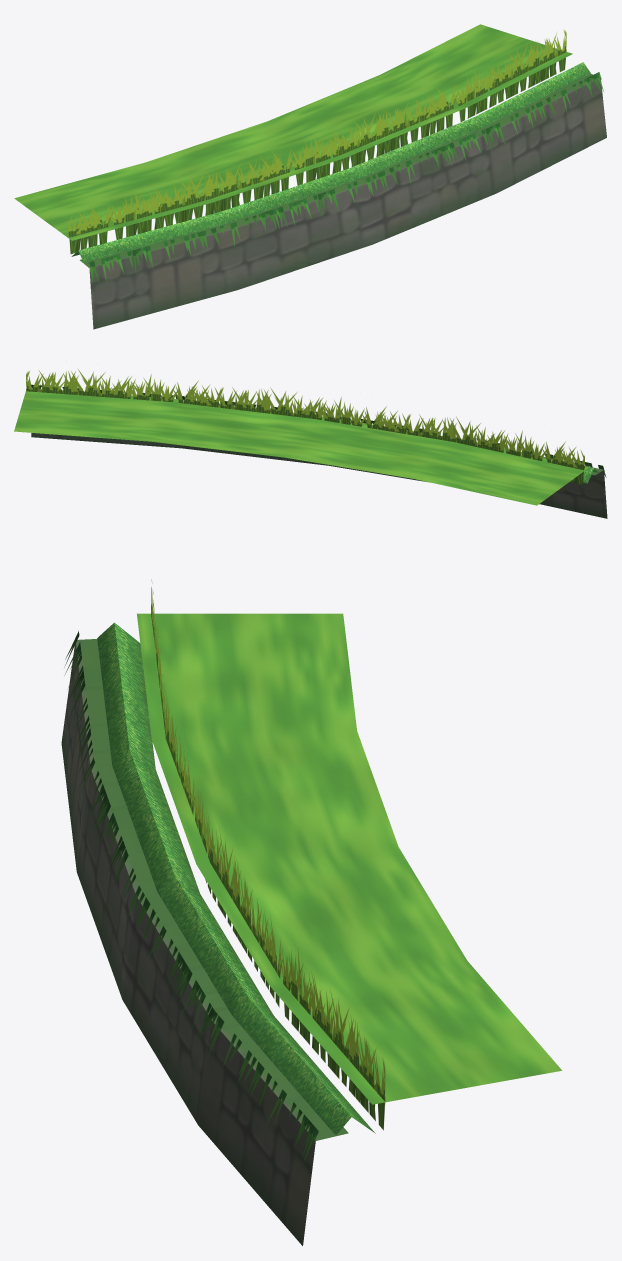
Rendered from terrace_convex_young_far.glb.
The picture shows the model from 3 angles, top to bottom: view 1: azimuth 30°, elevation 25°; view 2: azimuth 150°, elevation 25°; view 3: azimuth 270°, elevation 25°; orthographic projection. The views are drawn at different scales.
Visible parts, largest first — view 1: terrace_convex_young_far_cards, terrace_convex_young_far_wall, terrace_convex_young_far_dike; view 2: terrace_convex_young_far_cards, terrace_convex_young_far_wall; view 3: terrace_convex_young_far_cards, terrace_convex_young_far_wall, terrace_convex_young_far_dike.
Part boxes in pixels (<box>): terrace_convex_young_far_cards: <box>14,24,603,282</box>; terrace_convex_young_far_wall: <box>80,73,606,329</box>; terrace_convex_young_far_dike: <box>71,62,590,262</box>; terrace_convex_young_far_cards: <box>14,369,606,505</box>; terrace_convex_young_far_wall: <box>31,423,607,518</box>; terrace_convex_young_far_cards: <box>64,579,561,1162</box>; terrace_convex_young_far_wall: <box>61,639,348,1245</box>; terrace_convex_young_far_dike: <box>97,622,375,1135</box>.
Bounding box in the file's own units: 11.72 × 2.13 × 4.95.
Materials: 3 (3 with a texture image).
